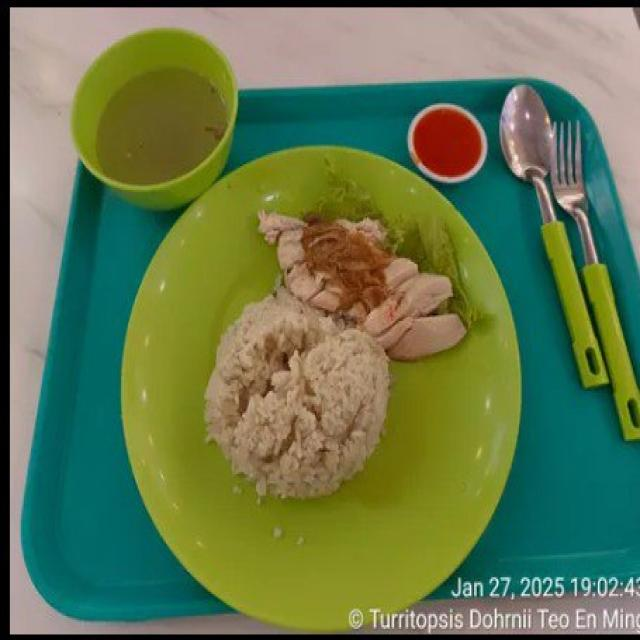Chicken: (260, 210, 464, 360)
Green veg: (295, 160, 482, 334)
Rice: (205, 286, 390, 496)
